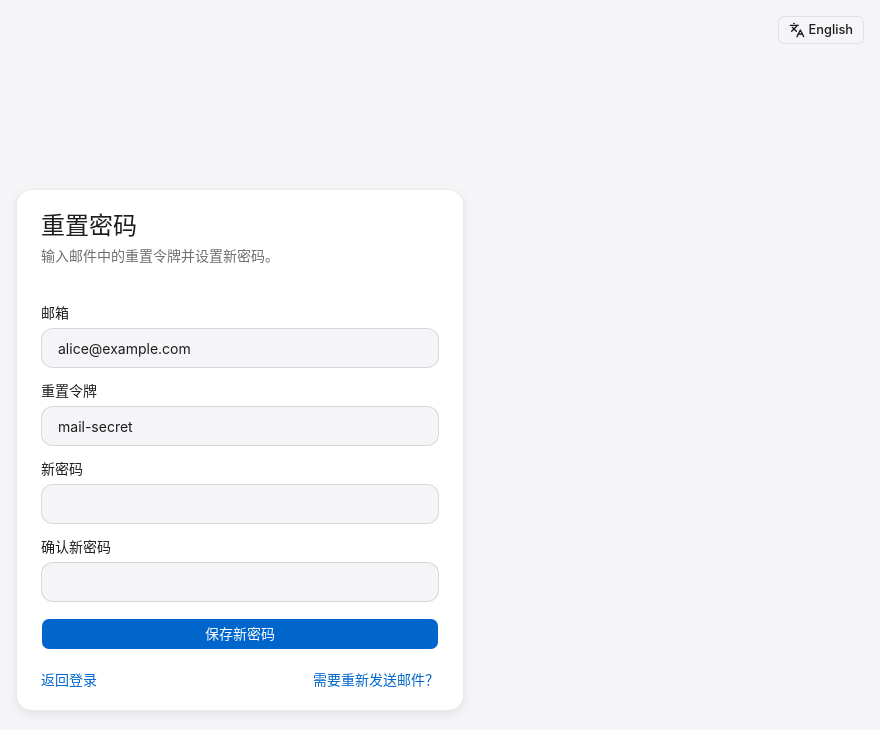
Test: PasswordRecoveryPage › preserves a replacement session when a reset finishes on the same page
Type "new-password-1" into the password field labelled "新密码" at point(240, 504), box [41,484,439,524]
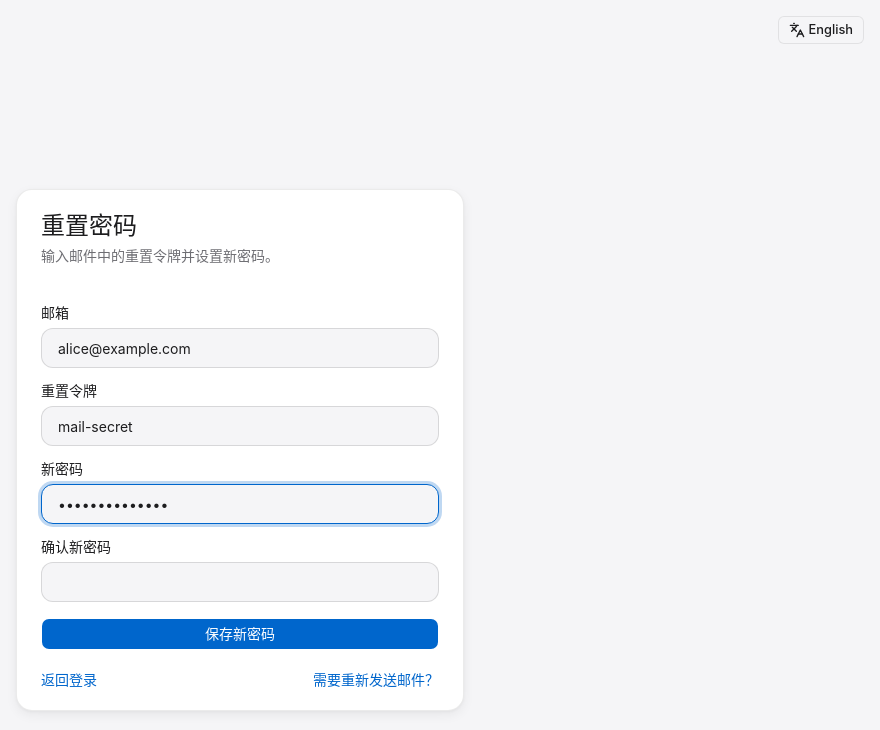
Type "new-password-1" into the password field labelled "确认新密码" at point(240, 582), box [41,562,439,602]
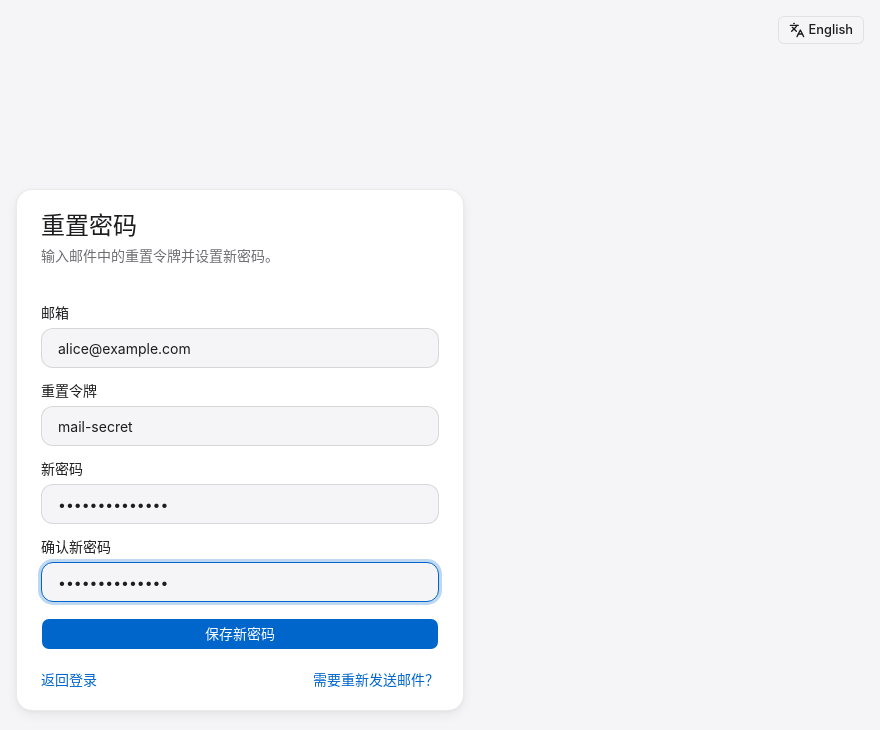
Click the button "保存新密码" at point(240, 634), box [41,618,439,650]
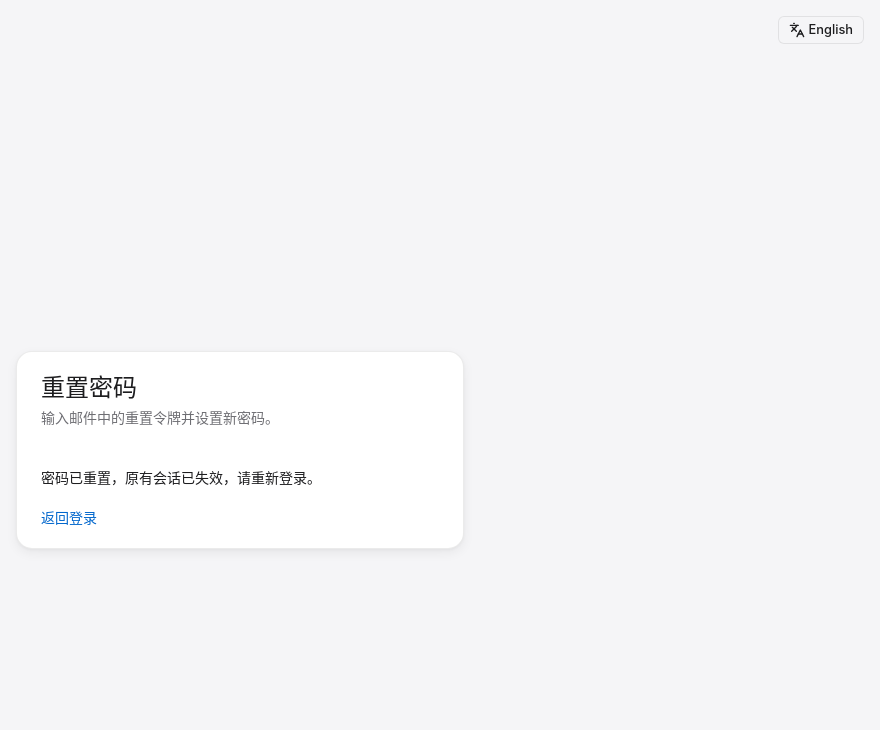
Expected: the text "密码已重置，原有会话已失效，请重新登录。" is shown, [41,469,321,486]
